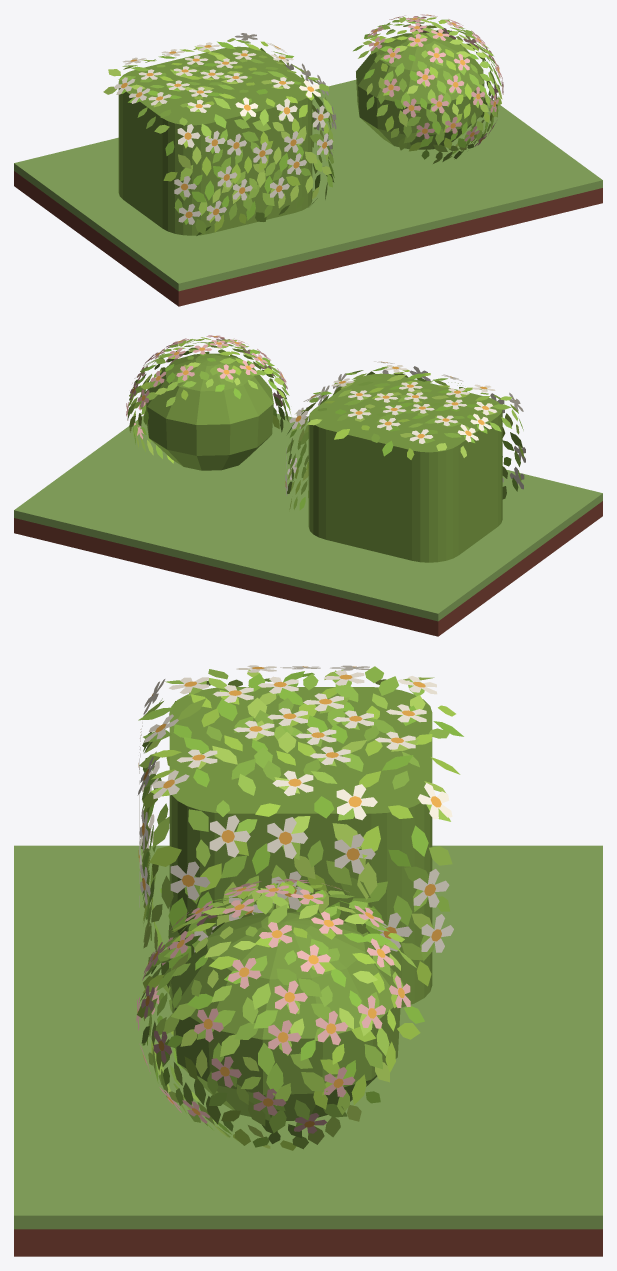
File: flower-bush.glb
3 renders of one model, top to bottom at view 1: azimuth 30°, elevation 25°; view 2: azimuth 150°, elevation 25°; view 3: azimuth 270°, elevation 25°, orthographic. The views are drawn at different scales.
Visible parts, largest first — view 1: flower-bush; view 2: flower-bush; view 3: flower-bush.
Boxes of the visible parts, x1,y1,x2,y2 form: flower-bush: [14, 14, 602, 306]; flower-bush: [14, 335, 602, 636]; flower-bush: [14, 665, 602, 1256].
Bounding box in the file's own units: 2.9 × 0.9837 × 1.95.
